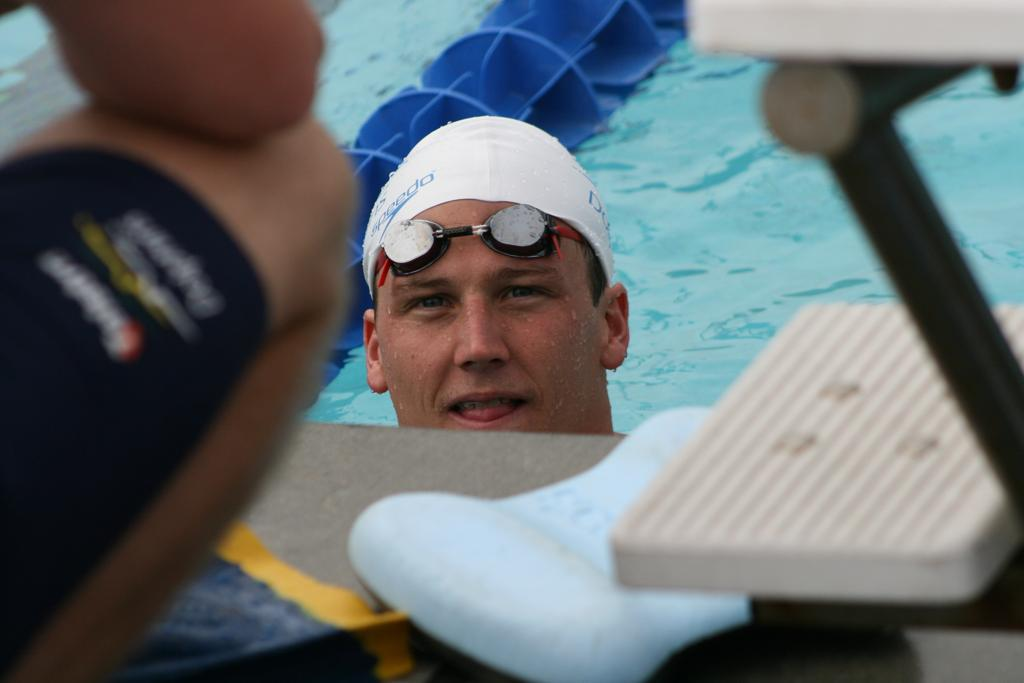face: (382, 228, 598, 484)
